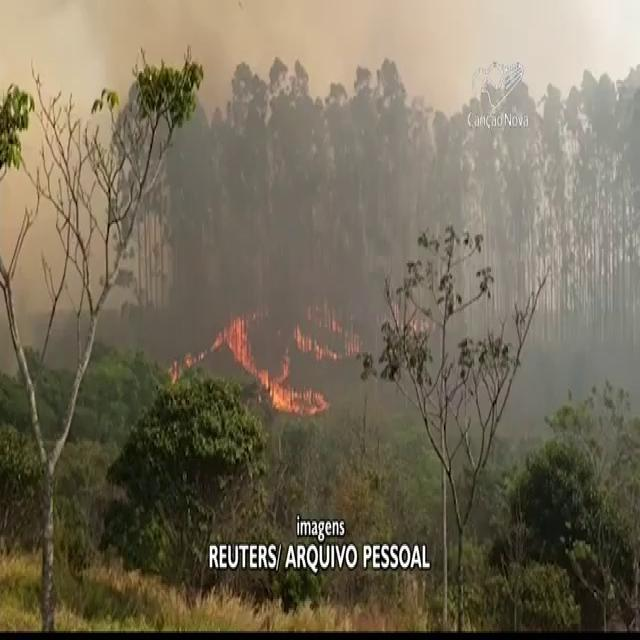Fire: (192, 304, 344, 418), (296, 308, 359, 360)
Smoke: (198, 0, 622, 383)
